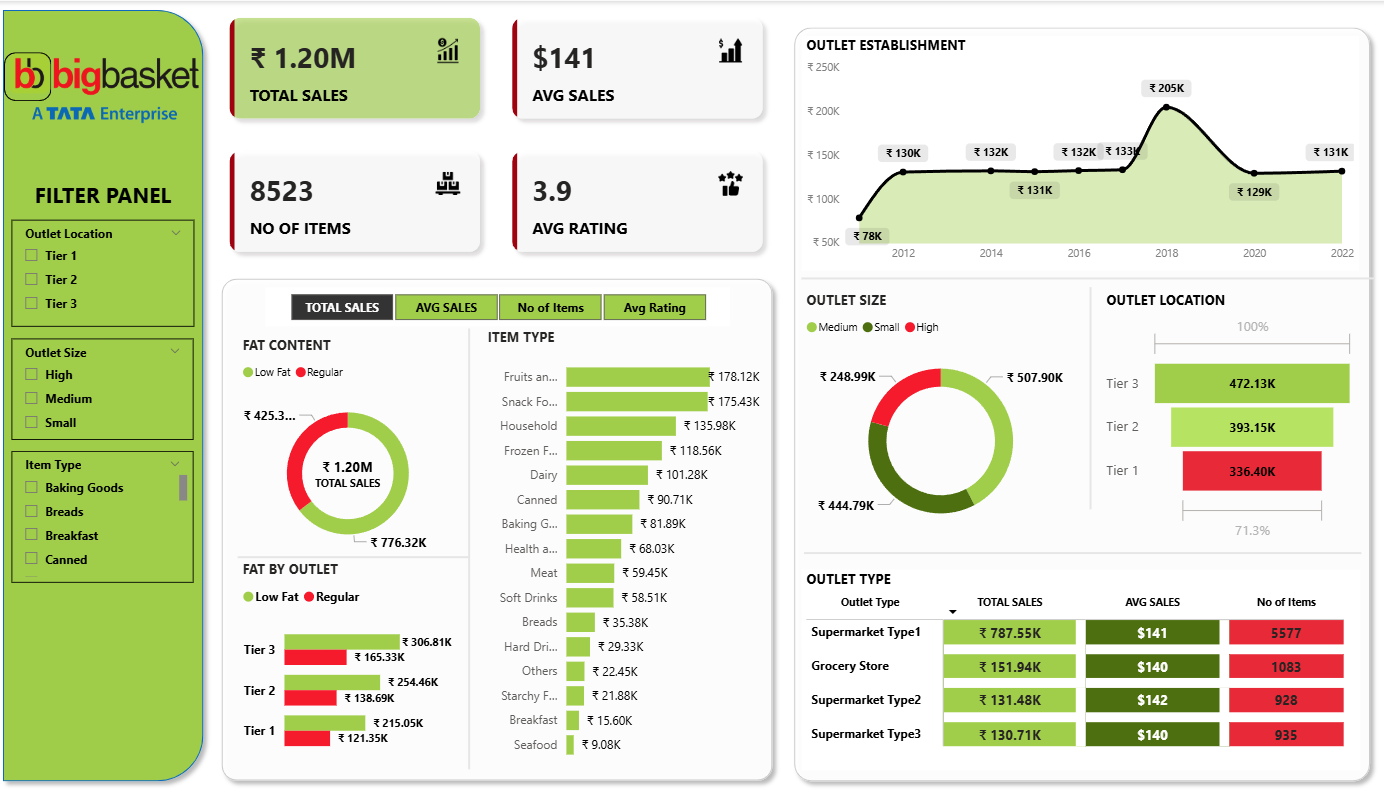

This screenshot's page, from the dashboard's own definition file:
{"tool":"powerbi","page":{"name":"Page 1","canvas":[1400,800],"ordinal":0},"visuals":[{"type":"shape","box":[0,0,218.8,790.8],"z":0},{"type":"cardVisual","fields":{"Data":["BlinkIT Grocery Data.TOTAL SALES","BlinkIT Grocery Data.AVG SALES","BlinkIT Grocery Data.No of Items","BlinkIT Grocery Data.Avg Rating"]},"box":[219.3,0,569.7,269.8],"z":1000},{"type":"shape","box":[219.3,269.8,569.7,520.7],"z":2000},{"type":"donutChart","title":"FAT CONTENT","fields":{"Y":["BlinkIT Grocery Data.TOTAL SALES"],"Category":["BlinkIT Grocery Data.Item Fat Content"]},"box":[244.6,336.1,220.9,230.4],"z":3000},{"type":"slicer","fields":{"Values":["Metrics.Metrics"]},"box":[271.4,287.2,465.5,39.5],"z":4000},{"type":"cardVisual","fields":{"Data":["BlinkIT Grocery Data.TOTAL SALES"]},"box":[298.9,440.2,110.1,57.1],"z":5000},{"type":"clusteredBarChart","title":"FAT BY OUTLET","fields":{"Y":["BlinkIT Grocery Data.TOTAL SALES"],"Category":["BlinkIT Grocery Data.Outlet Location Type"],"Series":["BlinkIT Grocery Data.Item Fat Content"]},"box":[244.6,560.2,219.3,209.9],"z":6000},{"type":"shape","box":[244.6,549.2,232,17.4],"z":7000},{"type":"shape","box":[463.9,328.2,25.2,441.8],"z":8000},{"type":"barChart","title":"ITEM TYPE","fields":{"Y":["BlinkIT Grocery Data.TOTAL SALES"],"Category":["BlinkIT Grocery Data.Item Type"]},"box":[489.2,326.7,282.5,443.4],"z":9000},{"type":"shape","box":[792.2,17.4,594.9,773.2],"z":10000},{"type":"lineChart","title":"OUTLET ESTABLISHMENT","fields":{"Y":["BlinkIT Grocery Data.TOTAL SALES"],"Category":["BlinkIT Grocery Data.Outlet Establishment Year"]},"box":[809.5,34.7,558.6,235.1],"z":11000},{"type":"shape","box":[809.5,269.8,574.4,17.4],"z":12000},{"type":"donutChart","title":"OUTLET SIZE","fields":{"Y":["BlinkIT Grocery Data.TOTAL SALES"],"Category":["BlinkIT Grocery Data.Outlet Size"]},"box":[809.5,290.4,279.3,255.6],"z":13000},{"type":"shape","box":[1088.8,287.2,20.5,222.5],"z":14000},{"type":"funnel","title":"OUTLET LOCATION","fields":{"Y":["Sum(BlinkIT Grocery Data.Sales)"],"Category":["BlinkIT Grocery Data.Outlet Location Type"]},"box":[1109.3,290.4,258.8,255.6],"z":15000},{"type":"shape","box":[811.1,546,558.6,14.2],"z":16000},{"type":"pivotTable","title":"OUTLET TYPE","fields":{"Rows":["BlinkIT Grocery Data.Outlet Type"],"Values":["BlinkIT Grocery Data.TOTAL SALES","BlinkIT Grocery Data.AVG SALES","BlinkIT Grocery Data.No of Items"]},"box":[809.5,569.7,560.2,200.4],"z":17000},{"type":"slicer","fields":{"Values":["BlinkIT Grocery Data.Outlet Location Type"]},"box":[17.4,219.3,183.1,107.3],"z":18000},{"type":"slicer","fields":{"Values":["BlinkIT Grocery Data.Outlet Size"]},"box":[17.7,338.3,182.1,101.9],"z":19000},{"type":"slicer","fields":{"Values":["BlinkIT Grocery Data.Item Type"]},"box":[17.7,451.1,182.1,131.8],"z":20000},{"type":"textbox","box":[22.1,173.6,173.6,44.2],"z":21000},{"type":"image","box":[9.5,0,201.1,173.9],"z":22000},{"type":"shape","box":[9.5,51.6,47.6,48.9],"z":23000}]}

Visuals, with their boxes in screenshot pixels (x1, y1, x2, y2), scaled from the page's 1400x800 canvas onto the 1384x793 screenshot:
shape: {"left": 0, "top": 0, "right": 216, "bottom": 784}
cardVisual - BlinkIT Grocery Data.TOTAL SALES x BlinkIT Grocery Data.AVG SALES: {"left": 217, "top": 0, "right": 780, "bottom": 267}
shape: {"left": 217, "top": 267, "right": 780, "bottom": 784}
"FAT CONTENT" donutChart: {"left": 242, "top": 333, "right": 460, "bottom": 562}
slicer - Metrics.Metrics: {"left": 268, "top": 285, "right": 728, "bottom": 324}
cardVisual - BlinkIT Grocery Data.TOTAL SALES: {"left": 295, "top": 436, "right": 404, "bottom": 493}
"FAT BY OUTLET" clusteredBarChart: {"left": 242, "top": 555, "right": 459, "bottom": 763}
shape: {"left": 242, "top": 544, "right": 471, "bottom": 562}
shape: {"left": 459, "top": 325, "right": 484, "bottom": 763}
"ITEM TYPE" barChart: {"left": 484, "top": 324, "right": 763, "bottom": 763}
shape: {"left": 783, "top": 17, "right": 1371, "bottom": 784}
"OUTLET ESTABLISHMENT" lineChart: {"left": 800, "top": 34, "right": 1352, "bottom": 267}
shape: {"left": 800, "top": 267, "right": 1368, "bottom": 285}
"OUTLET SIZE" donutChart: {"left": 800, "top": 288, "right": 1076, "bottom": 541}
shape: {"left": 1076, "top": 285, "right": 1097, "bottom": 505}
"OUTLET LOCATION" funnel: {"left": 1097, "top": 288, "right": 1352, "bottom": 541}
shape: {"left": 802, "top": 541, "right": 1354, "bottom": 555}
"OUTLET TYPE" pivotTable: {"left": 800, "top": 565, "right": 1354, "bottom": 763}
slicer - BlinkIT Grocery Data.Outlet Location Type: {"left": 17, "top": 217, "right": 198, "bottom": 324}
slicer - BlinkIT Grocery Data.Outlet Size: {"left": 17, "top": 335, "right": 198, "bottom": 436}
slicer - BlinkIT Grocery Data.Item Type: {"left": 17, "top": 447, "right": 198, "bottom": 578}
textbox: {"left": 22, "top": 172, "right": 193, "bottom": 216}
image: {"left": 9, "top": 0, "right": 208, "bottom": 172}
shape: {"left": 9, "top": 51, "right": 56, "bottom": 100}
